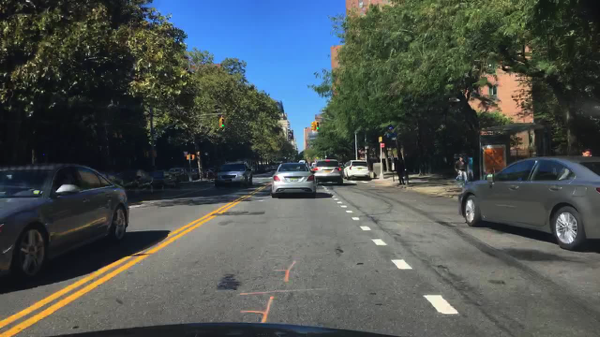car: (0, 161, 129, 288), (459, 154, 599, 250), (270, 162, 317, 198), (213, 159, 253, 190), (313, 157, 344, 187), (118, 169, 155, 194), (344, 159, 371, 181), (150, 171, 179, 190), (169, 167, 190, 178), (193, 169, 205, 179), (203, 169, 213, 177), (338, 162, 346, 171), (309, 162, 317, 168), (214, 168, 220, 175), (298, 159, 306, 164)
person: (453, 155, 469, 188), (394, 157, 406, 186), (581, 147, 591, 158)
traffic light: (220, 117, 225, 129), (316, 121, 321, 131), (310, 121, 315, 130), (189, 154, 196, 160), (377, 136, 384, 142), (184, 154, 190, 159)
traffic sign: (386, 125, 394, 132), (391, 133, 396, 140), (380, 143, 385, 147)
